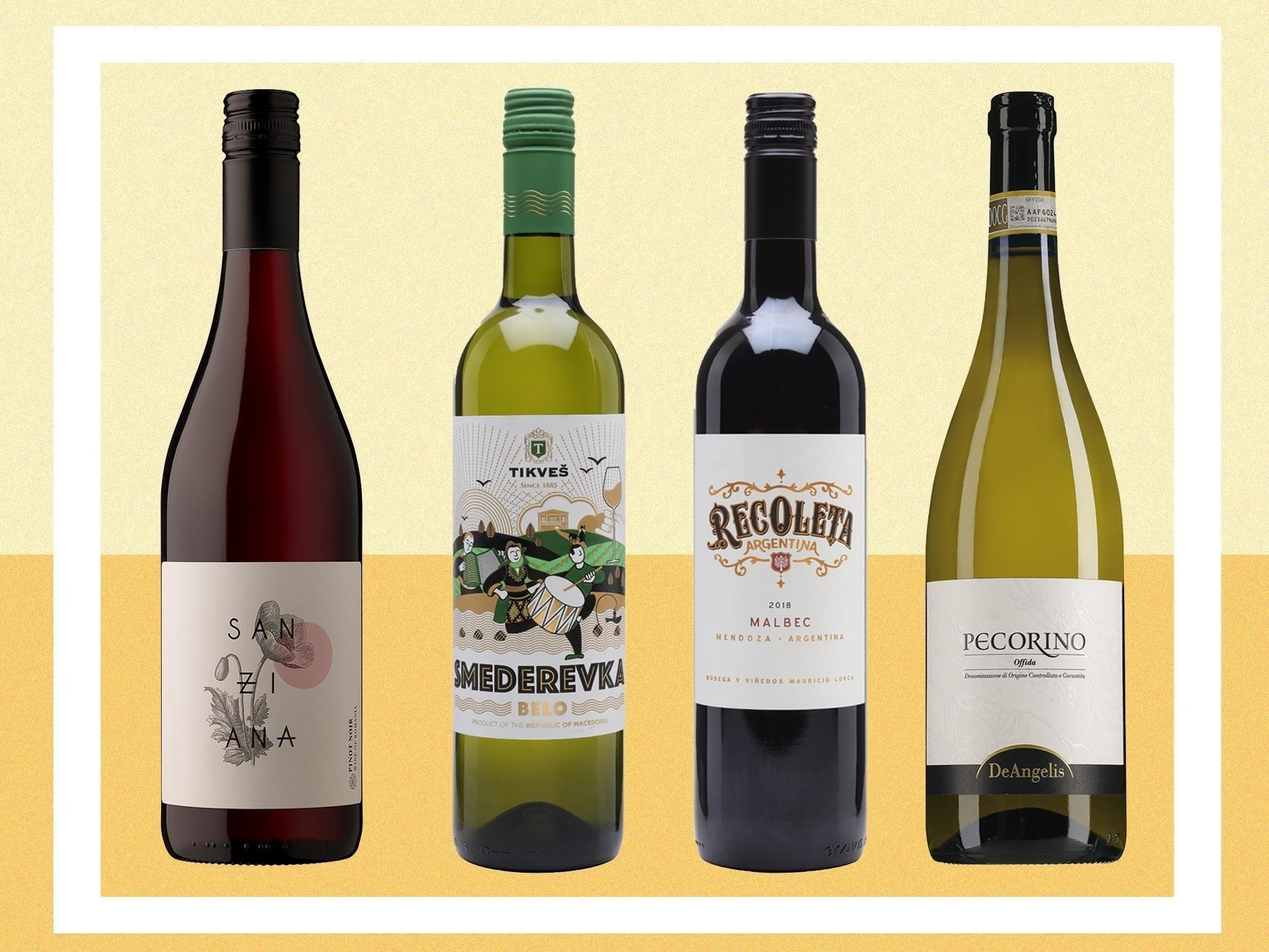bottle-glass: (152, 85, 372, 871), (916, 89, 1134, 869), (443, 84, 634, 879), (686, 86, 876, 879)
